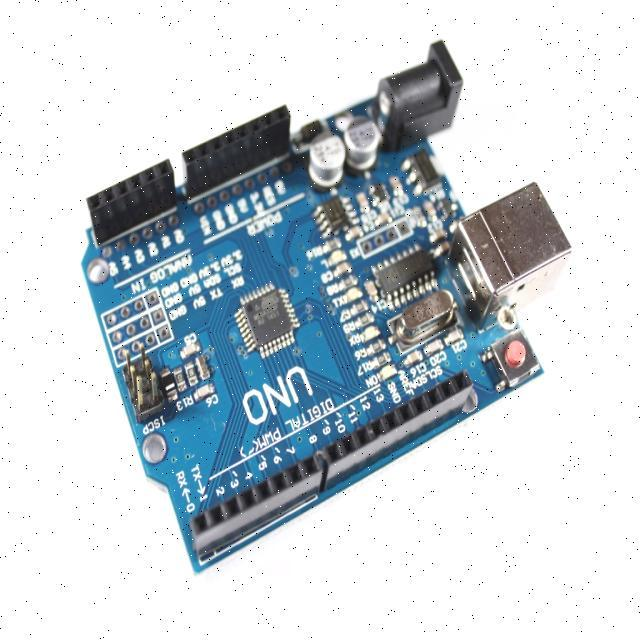arduino: (82, 28, 572, 576)
